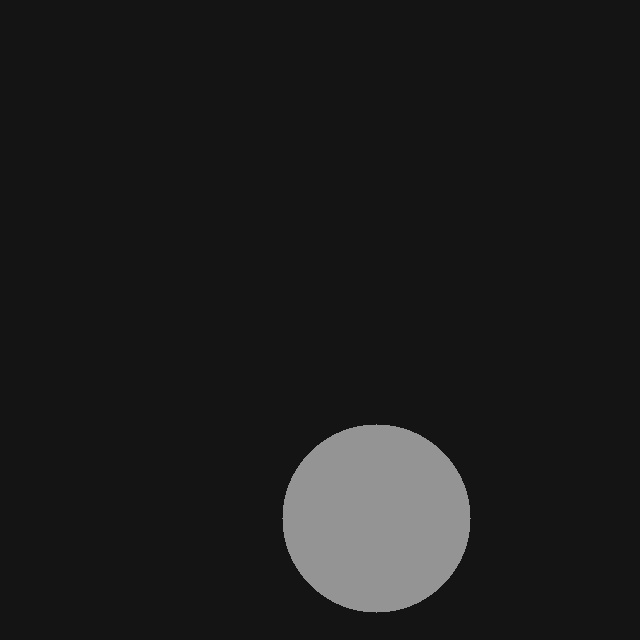circle: (282, 424, 470, 612)
